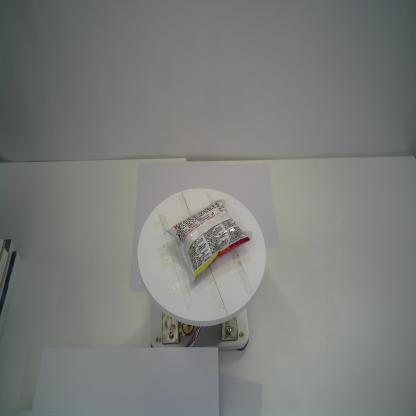Dessert: (164, 198, 252, 283)
